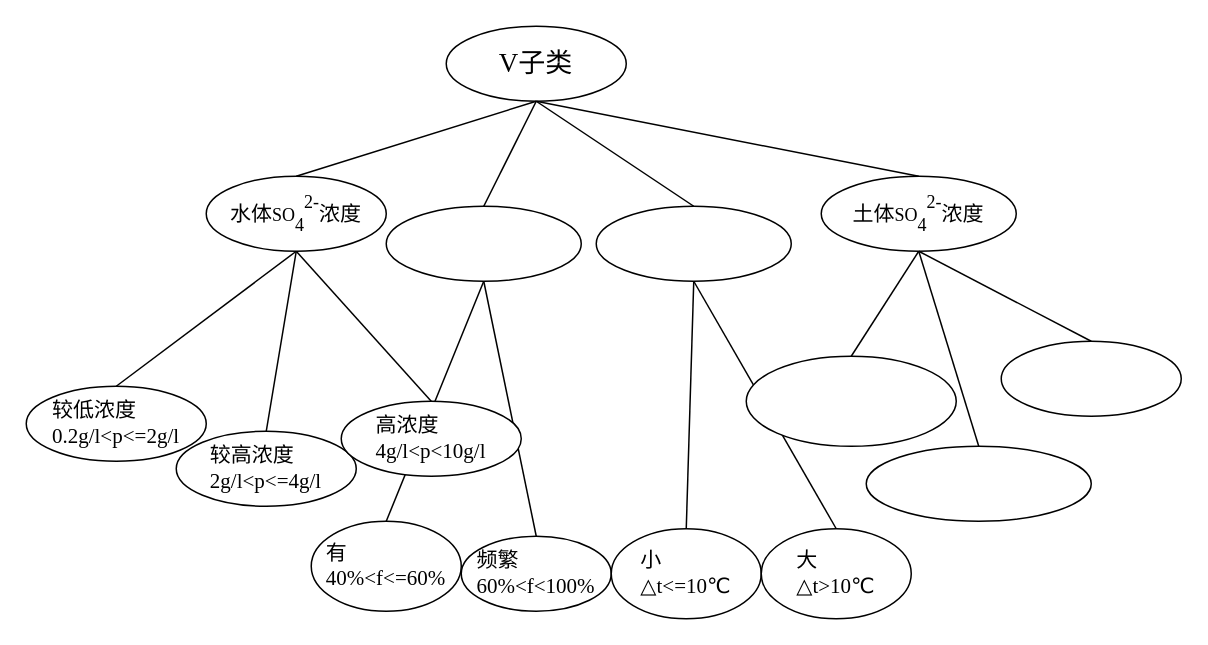
The diagram is 1208 pixels wide and 645 high, and some of its shapes have lost their labels. Here are the shapes that lost their labels. From the top down, the centre of each, then its label:
At pixel 483 243: "干湿交替程度".
At pixel 693 243: "日温差".
At pixel 1090 378: "高浓度 6g/kg<p<=15g/kg".
At pixel 850 400: "较低浓度 0.3g/kg<p<=3g/kg".
At pixel 978 483: "较高浓度 3g/kg<p<=6g/kg".
